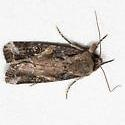army worm adult: (4, 12, 121, 104)
